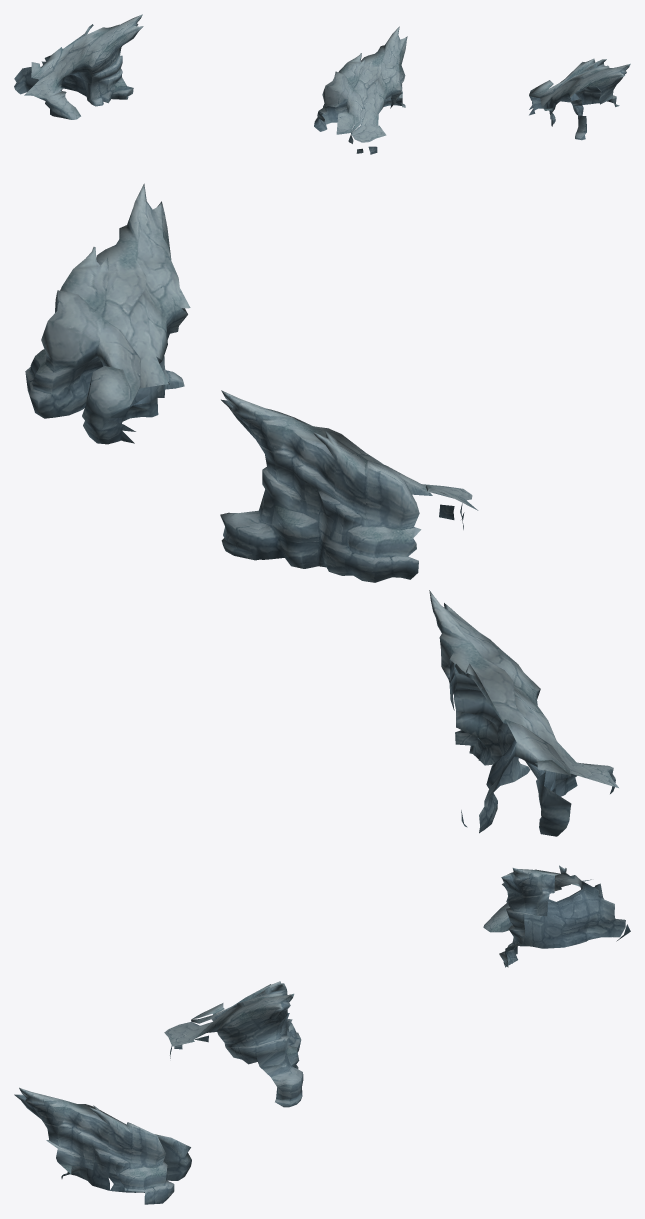
The model's file is yanshi22.FBX.
The picture shows the model from 3 angles, top to bottom: view 1: azimuth 30°, elevation 25°; view 2: azimuth 150°, elevation 25°; view 3: azimuth 270°, elevation 25°; orthographic projection. The views are drawn at different scales.
Parts seen in each view (by area): view 1: yanshi22; view 2: yanshi22; view 3: yanshi22.
Boxes of the visible parts, x1,y1,x2,y2 form: yanshi22: (14, 14, 630, 154); yanshi22: (25, 183, 618, 836); yanshi22: (14, 865, 630, 1204).
Size of the model in its own units: 5906 by 1022 by 5040.
